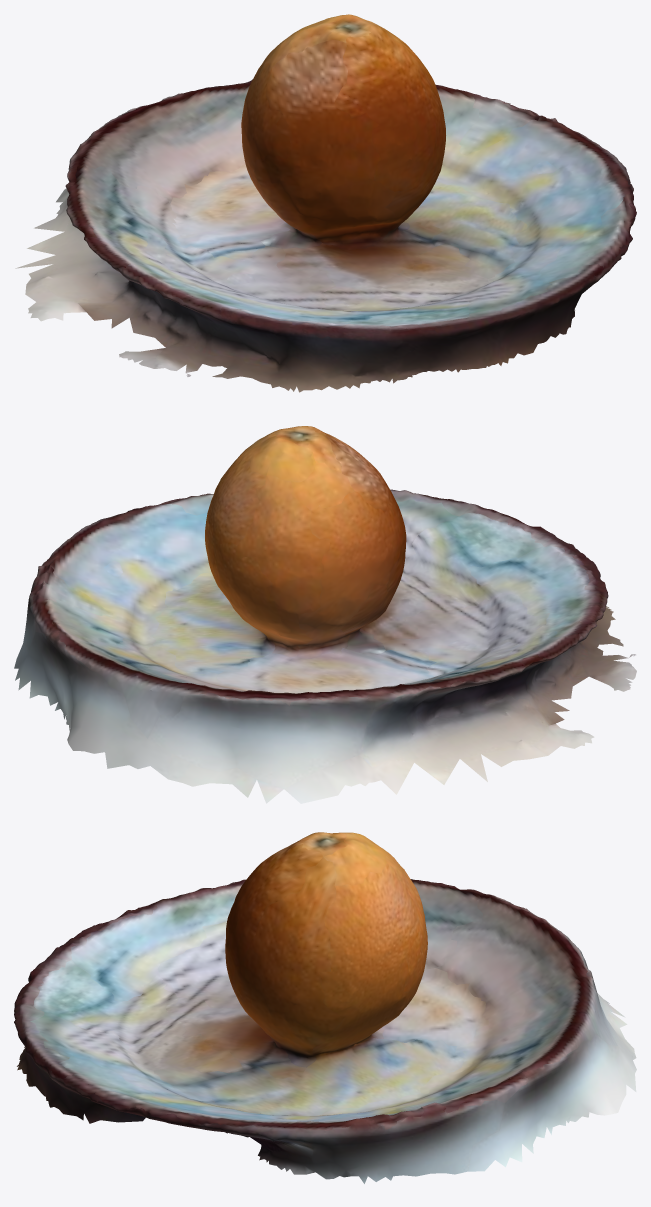
Rendered from laranja.glb.
The picture shows the model from 3 angles, top to bottom: view 1: azimuth 30°, elevation 25°; view 2: azimuth 150°, elevation 25°; view 3: azimuth 270°, elevation 25°; orthographic projection.
Parts seen in each view (by area): view 1: mesh; view 2: mesh; view 3: mesh.
Boxes of the visible parts, left/top/right/bottom form: mesh: left=15, top=14, right=636, bottom=392; mesh: left=14, top=426, right=636, bottom=803; mesh: left=14, top=832, right=636, bottom=1183.
Bounding box in the file's own units: 0.2538 × 0.1032 × 0.2476.
Materials: 2 (1 with a texture image).
